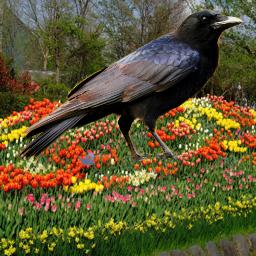Crow: (16, 7, 243, 161)
